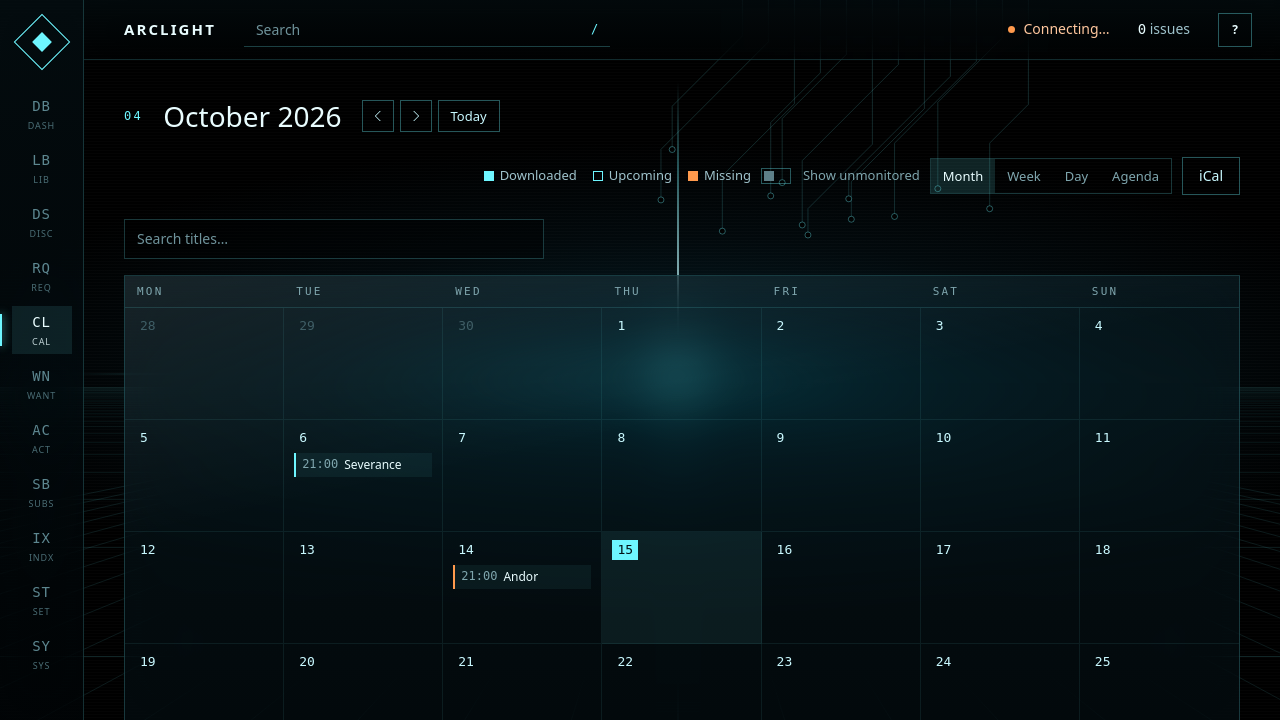
Test case: calendar page › steps the month with the arrow buttons
This screenshot has width=1280, height=720.
Expected: the button with aria-label "Severance, S02E09" is shown, [294,453,432,477]
Click the button named "Next" at coordinates (416, 116), box [400,100,432,132]
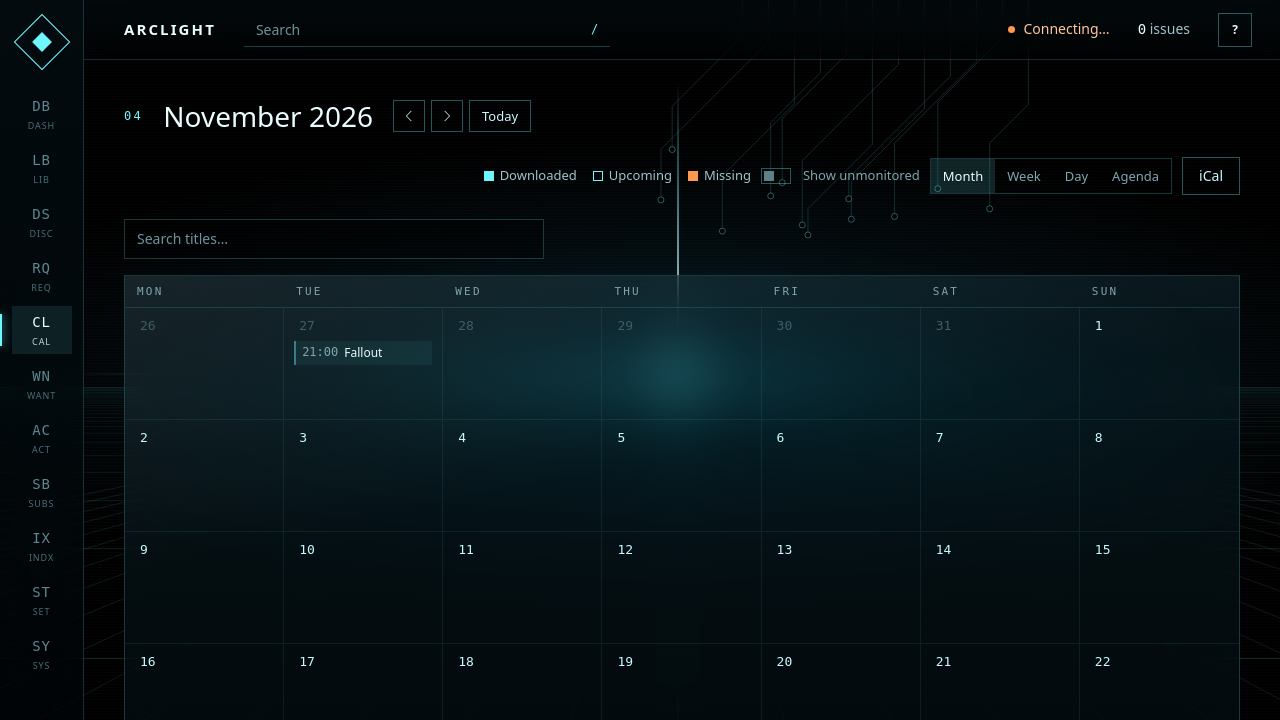
Expected: the heading shows "November", [163,97,373,135]
Click the button "Today" at coordinates (500, 116), box [469,100,531,132]
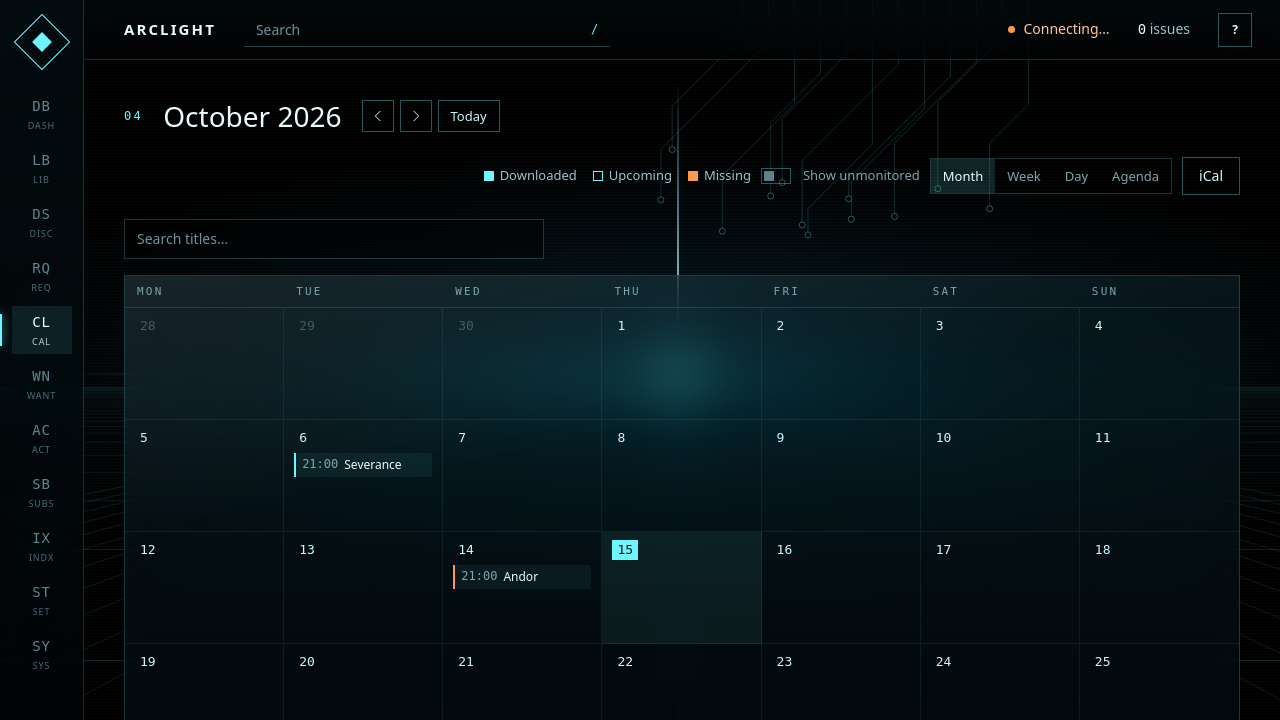
Expected: the heading shows "October", [163,97,342,135]
